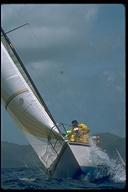sailboat: (1, 18, 114, 184)
sky: (50, 4, 125, 112)
water: (2, 169, 37, 187)
